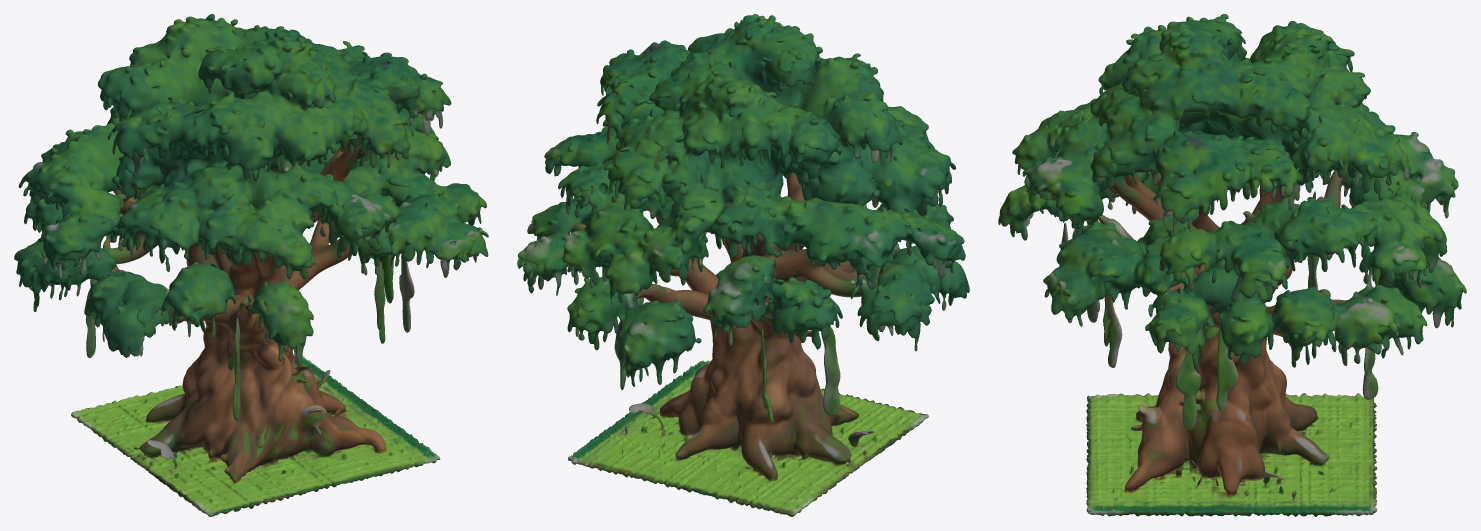
Rendered from Arvore.glb.
3 views of the same model, side by side, from view 1: azimuth 30°, elevation 25°; view 2: azimuth 150°, elevation 25°; view 3: azimuth 270°, elevation 25° (orthographic). The views are drawn at different scales.
Parts seen in each view (by area): view 1: tripo_node_026451a0-6c41-45e4-b96e-026f702db665; view 2: tripo_node_026451a0-6c41-45e4-b96e-026f702db665; view 3: tripo_node_026451a0-6c41-45e4-b96e-026f702db665.
Part boxes in pixels (x1,y1,x2,y2): tripo_node_026451a0-6c41-45e4-b96e-026f702db665: [14, 14, 488, 516]; tripo_node_026451a0-6c41-45e4-b96e-026f702db665: [517, 14, 969, 516]; tripo_node_026451a0-6c41-45e4-b96e-026f702db665: [998, 14, 1466, 516].
Size of the model in its own units: 1 by 0.9741 by 0.9569.
Materials: 1 (1 with a texture image).
